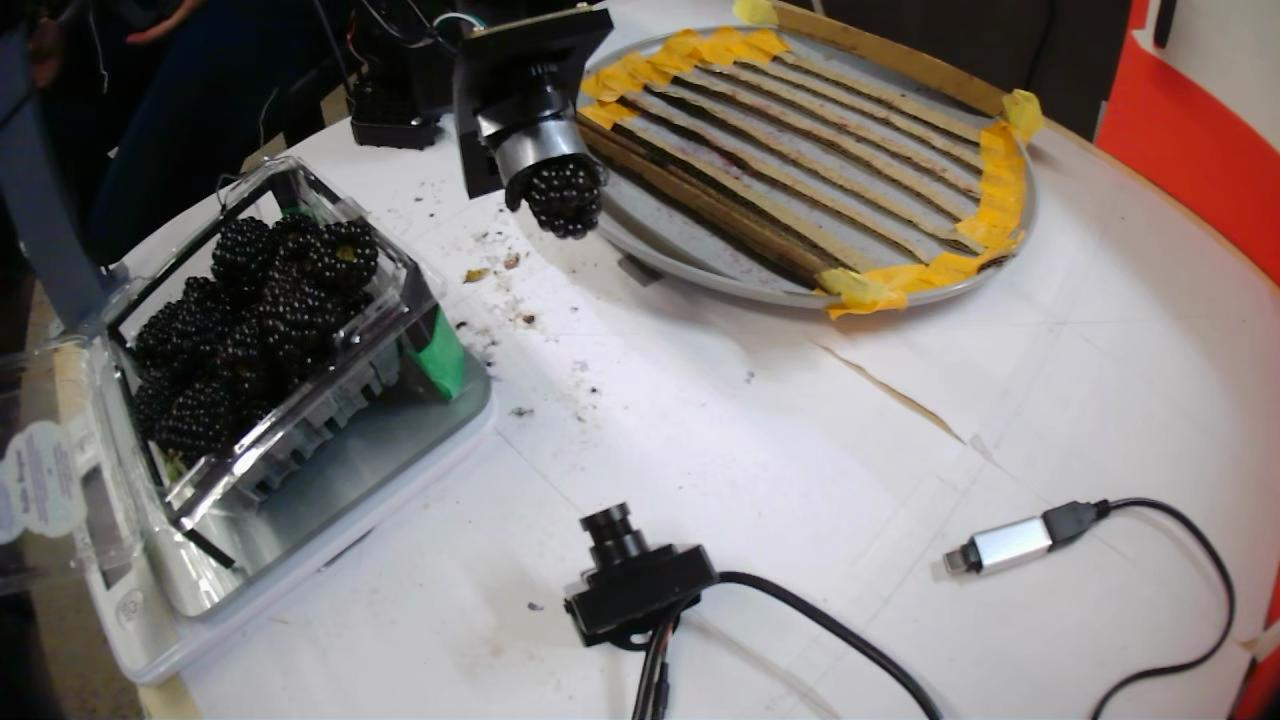berry: (265, 278, 341, 380), (152, 381, 238, 463), (522, 153, 603, 238), (307, 220, 378, 293), (174, 277, 228, 368), (211, 217, 275, 286), (217, 318, 271, 393), (133, 302, 184, 372), (133, 373, 182, 439), (271, 213, 322, 260)
